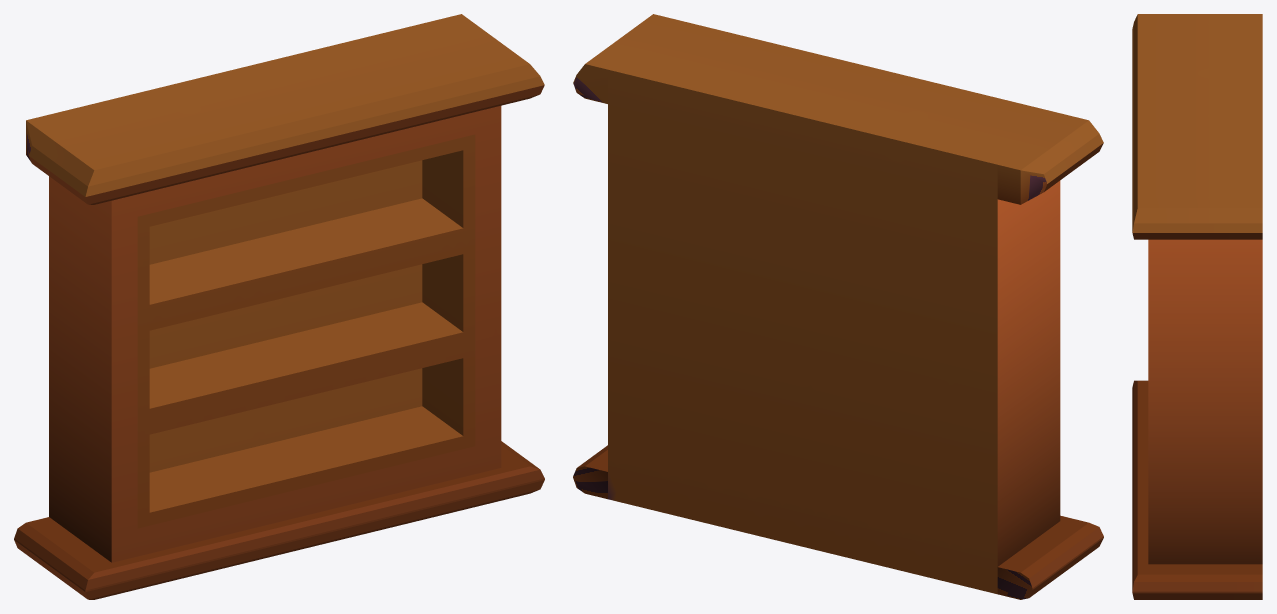
Rendered from single-shelf.glb.
The picture shows the model from 3 angles, left to right: view 1: azimuth 30°, elevation 25°; view 2: azimuth 150°, elevation 25°; view 3: azimuth 270°, elevation 25°; orthographic projection. The views are drawn at different scales.
Visible parts, largest first — view 1: Shelf01-col.001; view 2: Shelf01-col.001; view 3: Shelf01-col.001.
Part boxes in pixels (box(x1,y1,x2,y2)): Shelf01-col.001: box(14, 14, 544, 599); Shelf01-col.001: box(573, 14, 1103, 599); Shelf01-col.001: box(1132, 14, 1262, 599).
Bounding box in the file's own units: 4 × 3.57 × 1.08.
Materials: 1 (1 with a texture image).
